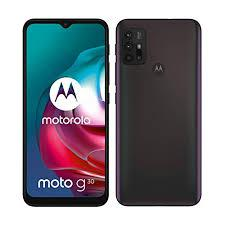Smartphone: (24, 19, 109, 207), (114, 16, 198, 206)
